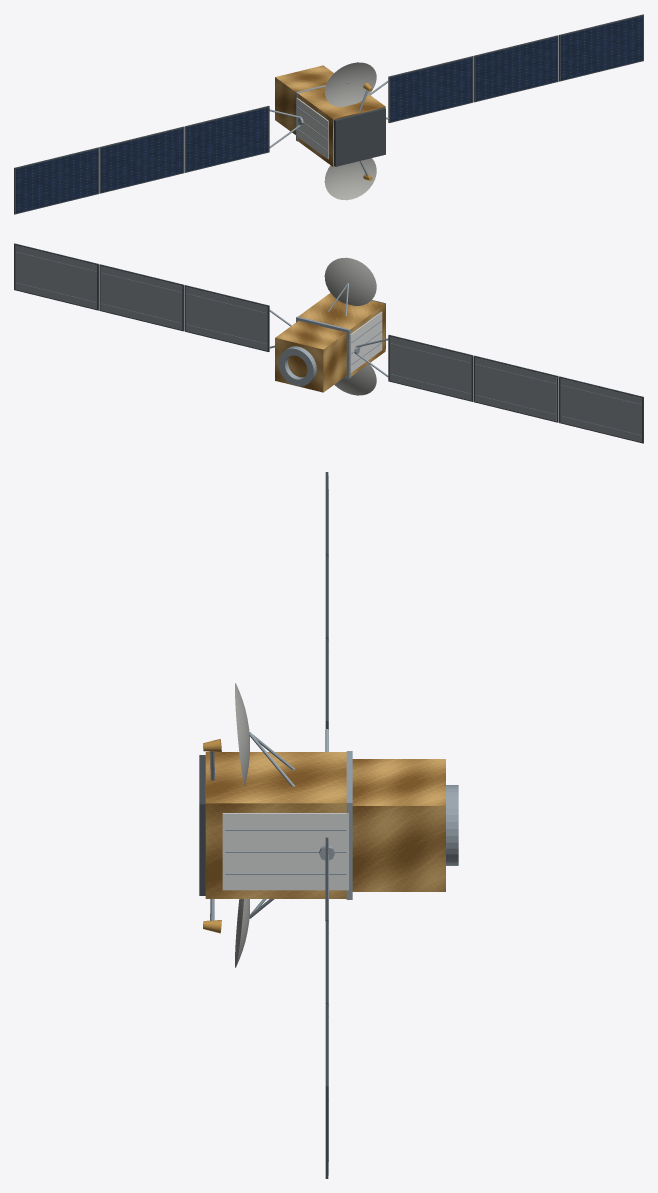
File: ref-dfh-3b-41034.glb
The picture shows the model from 3 angles, top to bottom: view 1: azimuth 30°, elevation 25°; view 2: azimuth 150°, elevation 25°; view 3: azimuth 270°, elevation 25°; orthographic projection. The views are drawn at different scales.
Visible parts, largest first — view 1: Solar cell panel (×6), Communications reflector (×2), Solar panel frame (×6), Earth-facing deck, Service module, Payload module, Radiator face; view 2: Rear array substrate (×6), Service module, Solar panel frame (×6), Communications reflector (×2), Payload module, Radiator face, Launch adapter ring, Module interface; view 3: Service module, Payload module, Radiator face, Launch adapter ring, Earth-facing deck.
Boxes of the visible parts, left/top/right/bottom form: Solar cell panel (×6): left=16, top=16, right=642, bottom=213; Communications reflector (×2): left=324, top=62, right=376, bottom=200; Solar panel frame (×6): left=14, top=14, right=643, bottom=214; Earth-facing deck: left=334, top=107, right=385, bottom=166; Service module: left=275, top=65, right=333, bottom=134; Payload module: left=297, top=87, right=385, bottom=166; Radiator face: left=296, top=98, right=328, bottom=159; Rear array substrate (×6): left=15, top=245, right=641, bottom=442; Service module: left=275, top=321, right=346, bottom=392; Solar panel frame (×6): left=14, top=243, right=643, bottom=443; Communications reflector (×2): left=324, top=257, right=376, bottom=395; Payload module: left=298, top=293, right=385, bottom=376; Radiator face: left=350, top=311, right=382, bottom=373; Launch adapter ring: left=278, top=346, right=316, bottom=386; Module interface: left=296, top=316, right=350, bottom=378; Service module: left=352, top=759, right=445, bottom=891; Payload module: left=205, top=752, right=346, bottom=898; Radiator face: left=222, top=813, right=348, bottom=890; Launch adapter ring: left=446, top=785, right=458, bottom=865; Earth-facing deck: left=199, top=755, right=205, bottom=895.
Bounding box in the file's own units: 29.96 × 6.19 × 5.34.
8 materials, 2 textured.
